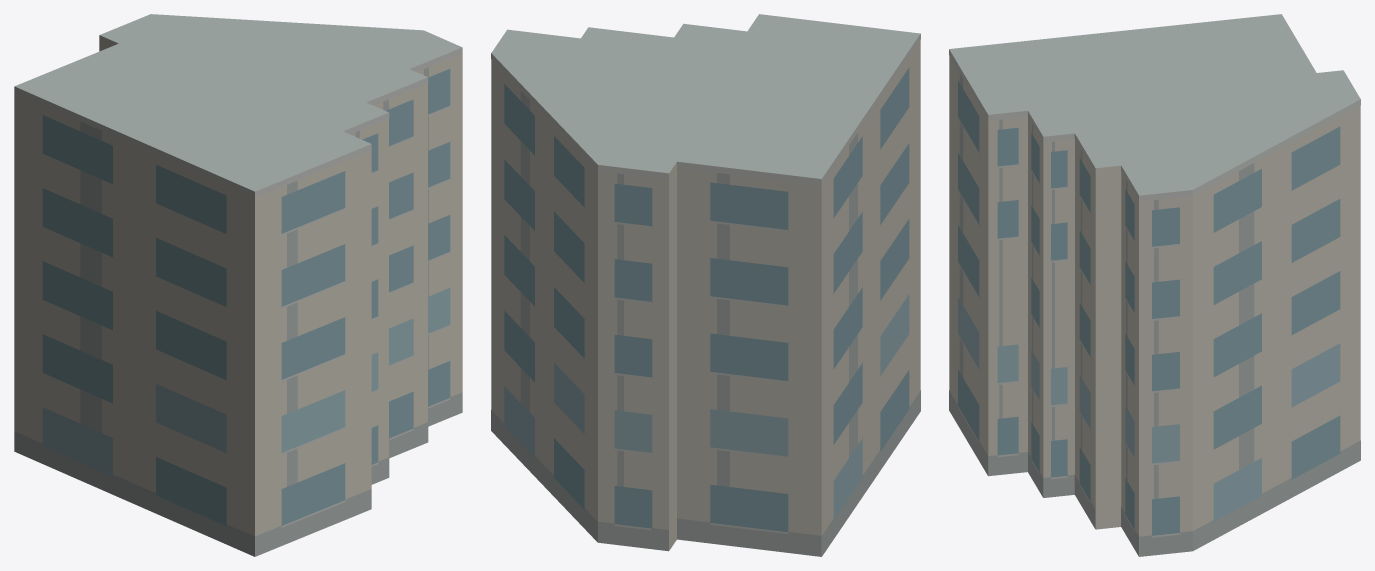
The model's file is survey-upis-32726779.glb.
3 renders of one model, left to right at view 1: azimuth 30°, elevation 25°; view 2: azimuth 150°, elevation 25°; view 3: azimuth 270°, elevation 25°, orthographic. The views are drawn at different scales.
Parts seen in each view (by area): view 1: survey-upis-32726779.tmp; view 2: survey-upis-32726779.tmp; view 3: survey-upis-32726779.tmp.
Boxes of the visible parts, bbox=[...] form: survey-upis-32726779.tmp: bbox=[14, 14, 462, 556]; survey-upis-32726779.tmp: bbox=[491, 14, 920, 556]; survey-upis-32726779.tmp: bbox=[949, 14, 1360, 556].
Size of the model in its own units: 15.69 by 14.55 by 15.04.
